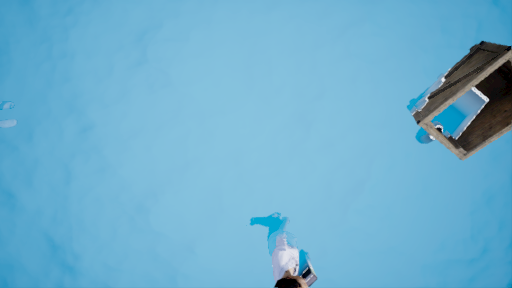person: (240, 212, 316, 288)
